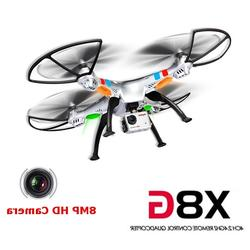drone: (26, 27, 232, 162)
